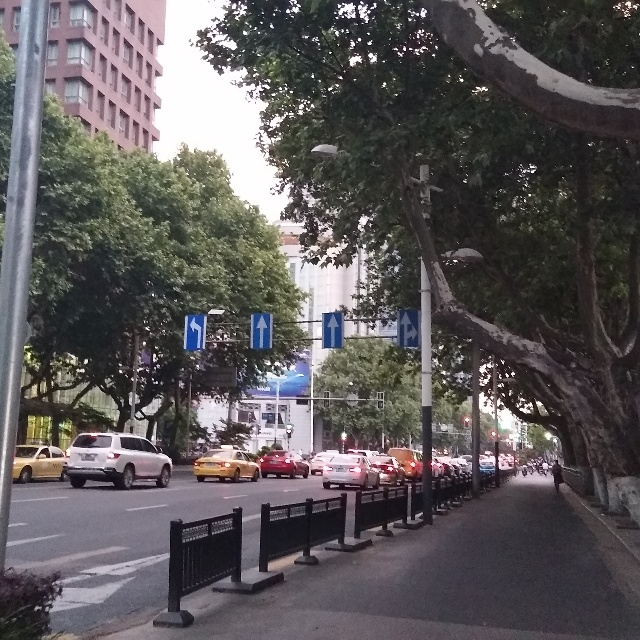left: (183, 314, 208, 354)
straight: (320, 312, 346, 349), (250, 314, 275, 349)
